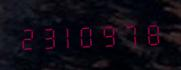eight: (143, 18, 163, 47)
nine: (101, 19, 121, 48)
one: (59, 21, 79, 50)
seven: (122, 18, 142, 48)
three: (38, 21, 58, 51)
two: (17, 22, 37, 51)
zero: (80, 20, 100, 49)
